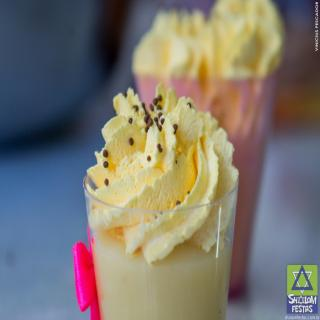Ice cream: (133, 0, 287, 296), (82, 80, 243, 258)
